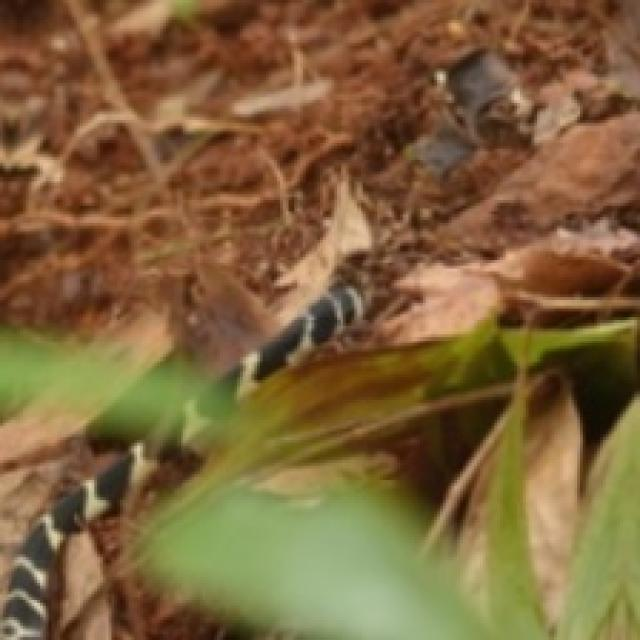king cobra: (0, 320, 223, 637), (226, 286, 360, 400)
